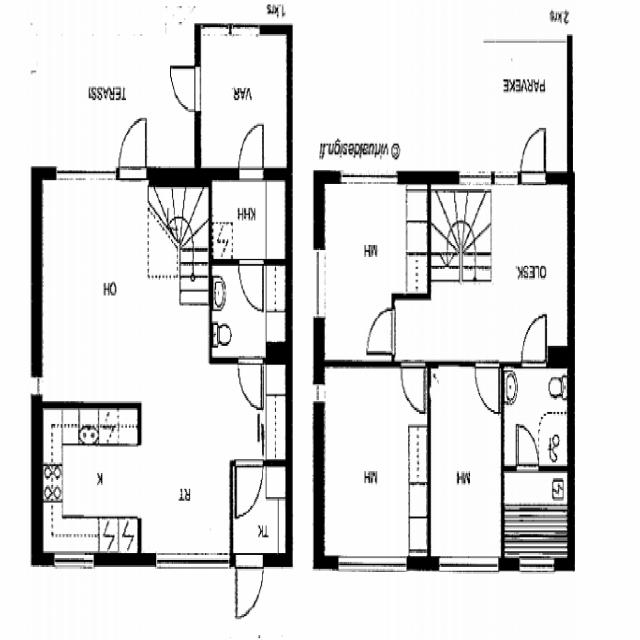door: (236, 556, 264, 623), (119, 115, 147, 179), (236, 461, 264, 519), (239, 120, 264, 180), (170, 66, 202, 111), (522, 126, 546, 185), (475, 362, 500, 415), (401, 362, 426, 414), (368, 310, 396, 356), (238, 358, 262, 409), (522, 317, 546, 368), (239, 260, 263, 310), (516, 426, 539, 473)
